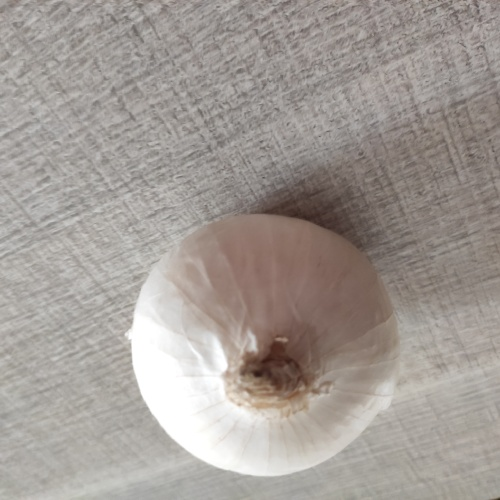cipolla: (115, 205, 423, 483)
